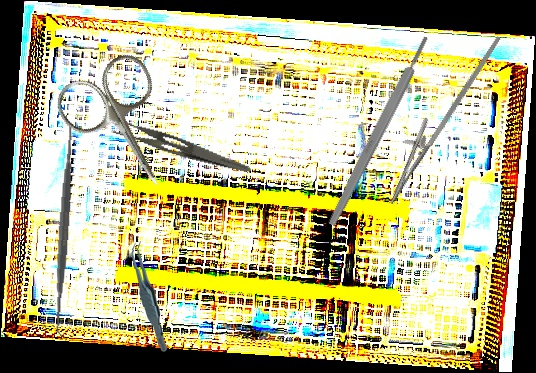Dressing Forceps: (102, 113, 256, 175)
Iris Scissors: (49, 47, 199, 210)
Needle Holder: (375, 18, 502, 216)
Scalpel Handle: (325, 34, 433, 228)
Spatula Surgical: (43, 111, 84, 341)
Tissue Forceps: (130, 240, 168, 354)
